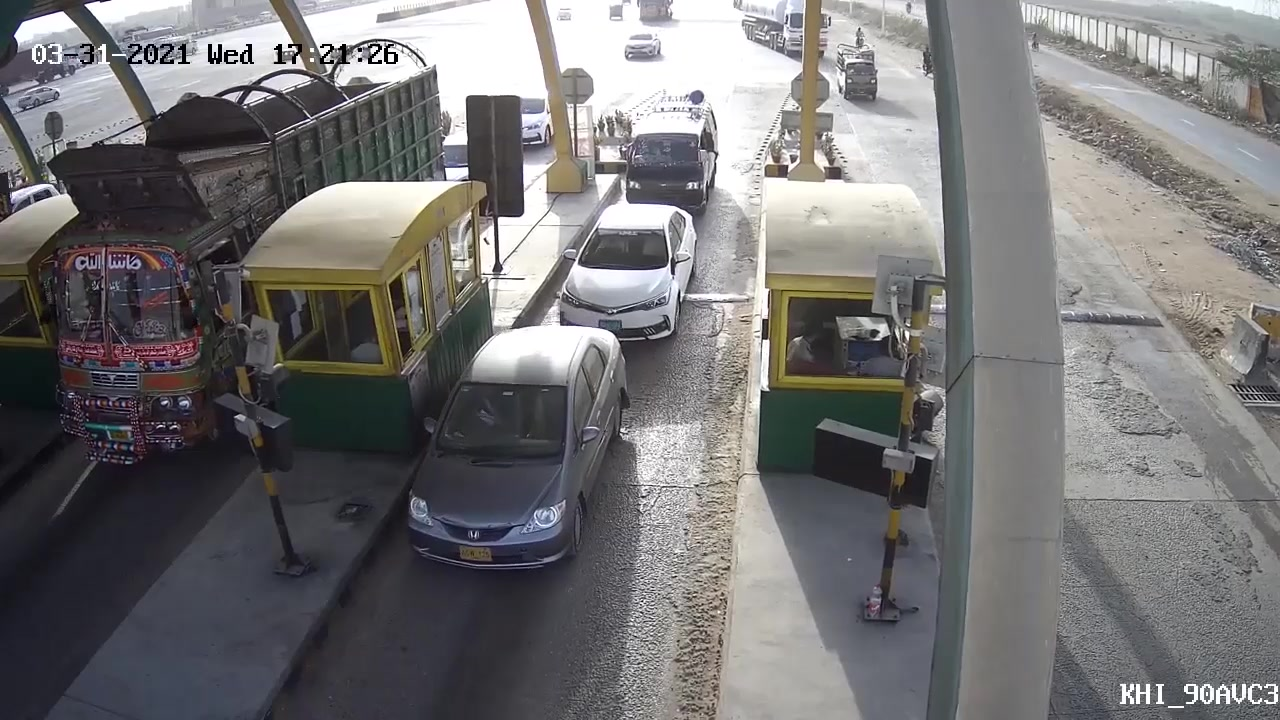F1: (390, 322, 635, 585), (545, 193, 704, 349)
